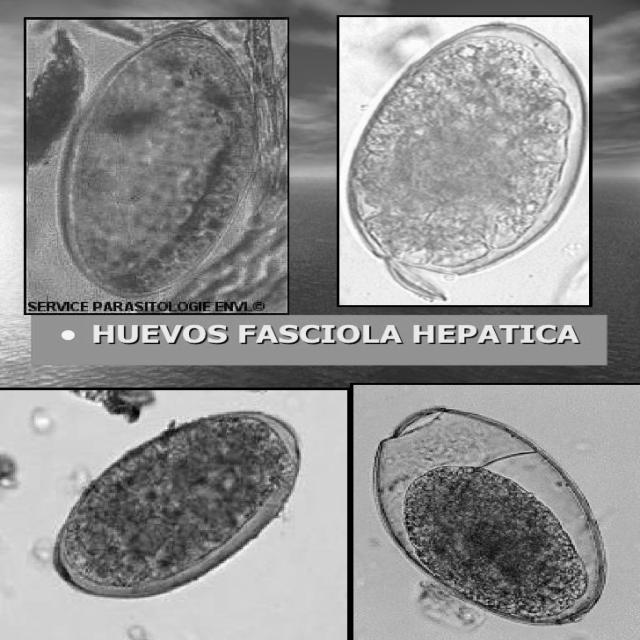Fasciola Hepatica: (343, 20, 592, 297), (45, 21, 279, 305), (355, 397, 630, 633), (42, 407, 314, 605)
